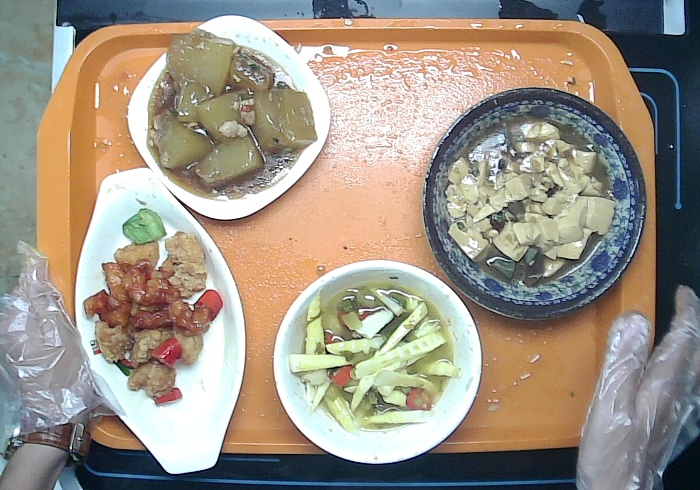ZNLD-Qing_Hua_Wan: (416, 82, 649, 327)
ZNLD-Si_Fang_Wan: (124, 11, 335, 224)
ZNLD-Tang_Wan: (269, 257, 485, 468)
ZNLD-Yu_Pan: (70, 163, 249, 481)
